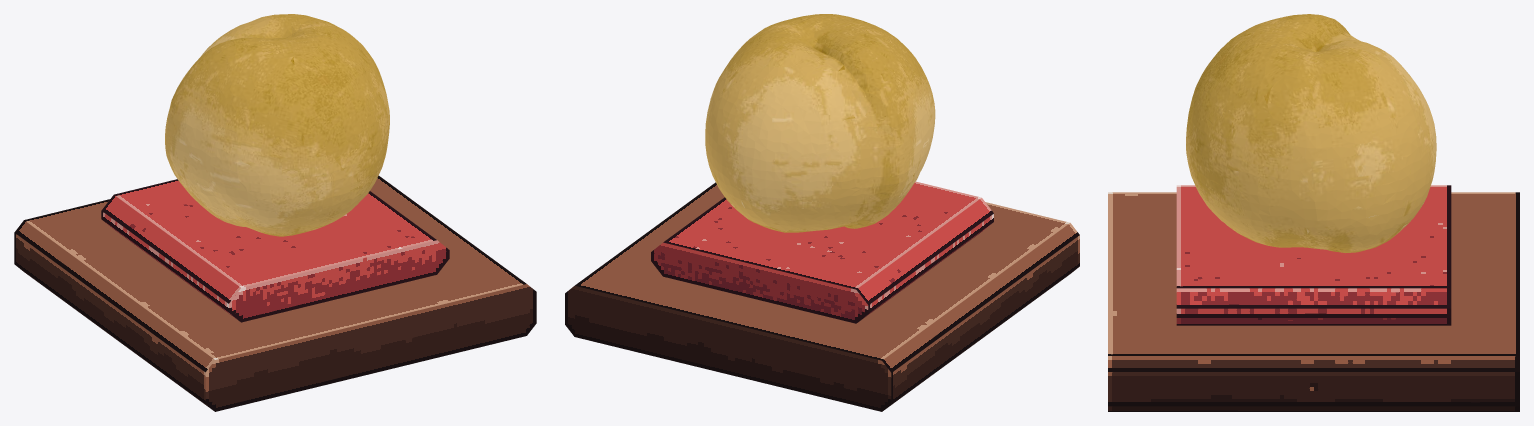
The model's file is momo.glb.
3 views of the same model, side by side, from view 1: azimuth 30°, elevation 25°; view 2: azimuth 150°, elevation 25°; view 3: azimuth 270°, elevation 25° (orthographic). The views are drawn at different scales.
Parts seen in each view (by area): view 1: base, model_peach, cushion; view 2: base, model_peach, cushion; view 3: base, model_peach, cushion.
Part boxes in pixels (bbox=[...]): base: bbox=[14, 175, 536, 411]; model_peach: bbox=[165, 14, 389, 236]; cushion: bbox=[101, 179, 449, 322]; base: bbox=[565, 182, 1079, 411]; model_peach: bbox=[705, 14, 935, 232]; cushion: bbox=[651, 181, 993, 323]; base: bbox=[1108, 192, 1519, 411]; model_peach: bbox=[1186, 14, 1436, 252]; cushion: bbox=[1176, 185, 1451, 325].
Bounding box in the file's own units: 24 × 19 × 24.
2 materials, 2 textured.
